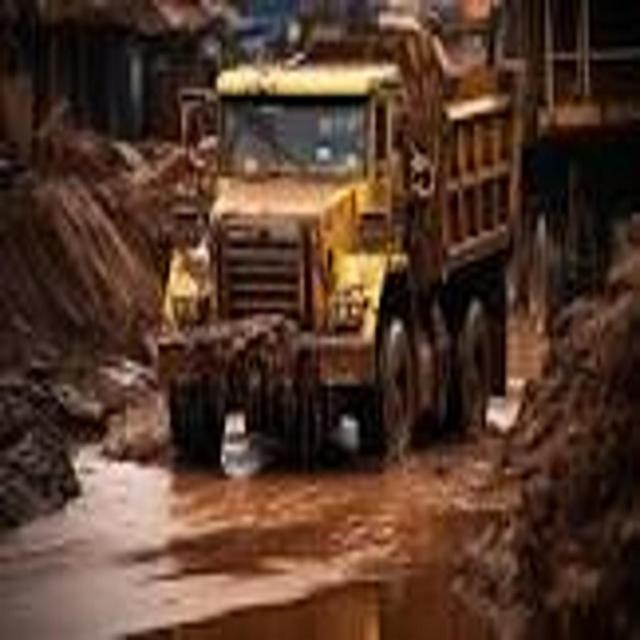dump_truck: (151, 0, 520, 468)
